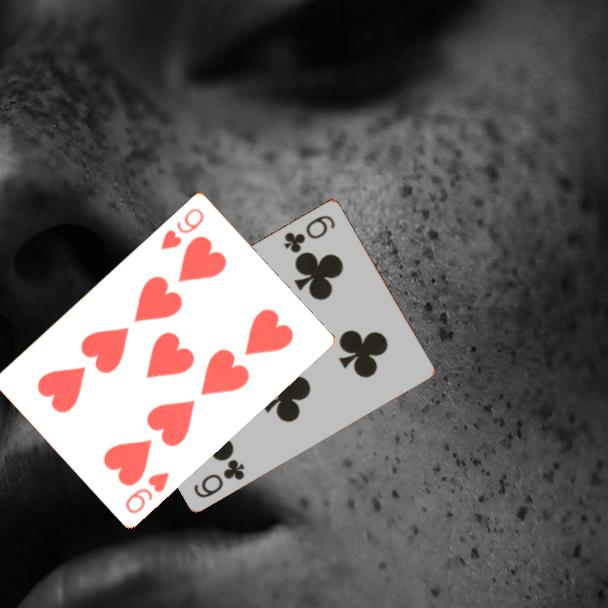c06: (280, 211, 338, 256), (190, 455, 248, 500)
h09: (157, 204, 207, 253), (122, 468, 172, 516)
